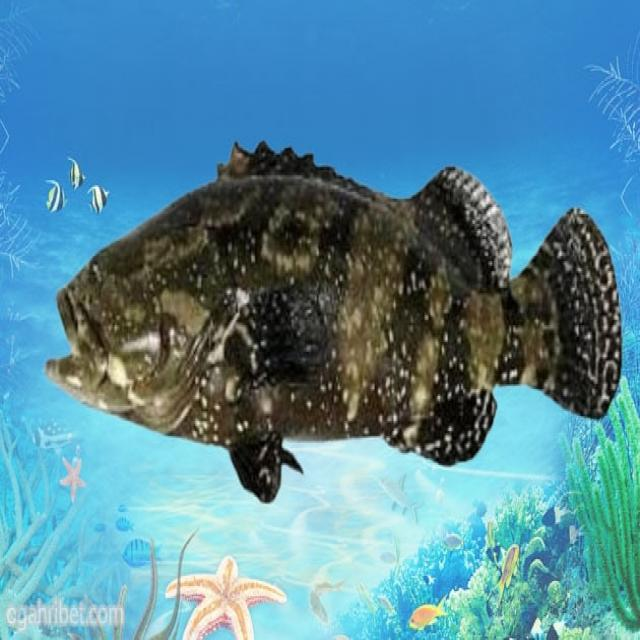grouper: (44, 123, 628, 506)
